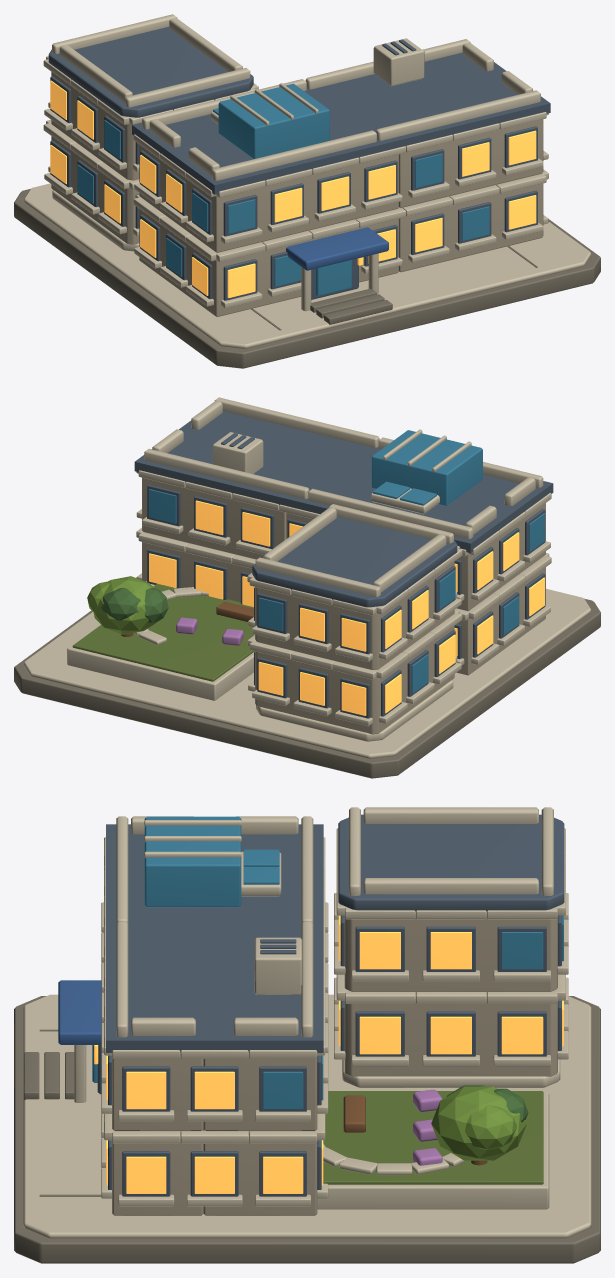
The model's file is civilian-library-normal.glb.
3 renders of one model, top to bottom at view 1: azimuth 30°, elevation 25°; view 2: azimuth 150°, elevation 25°; view 3: azimuth 270°, elevation 25°, orthographic. The views are drawn at different scales.
Visible parts, largest first — view 1: CivilianShell; view 2: CivilianShell; view 3: CivilianShell.
Part boxes in pixels (<box>): CivilianShell: <box>14,14,600,368</box>; CivilianShell: <box>14,397,600,778</box>; CivilianShell: <box>14,807,600,1263</box>.
Bounding box in the file's own units: 2.97 × 1.43 × 2.97.
